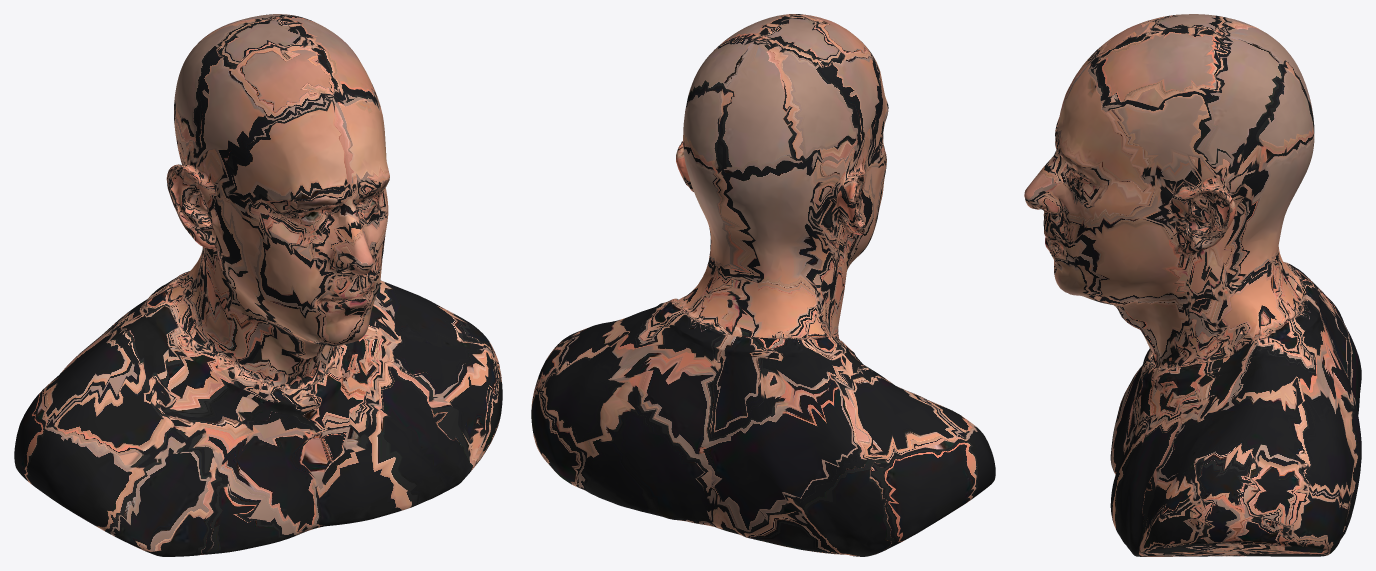
File: mock-head.glb
3 renders of one model, left to right at view 1: azimuth 30°, elevation 25°; view 2: azimuth 150°, elevation 25°; view 3: azimuth 270°, elevation 25°, orthographic. The views are drawn at different scales.
Size of the model in its own units: 1.9 by 1.9 by 1.25.
Materials: 1 (1 with a texture image).
